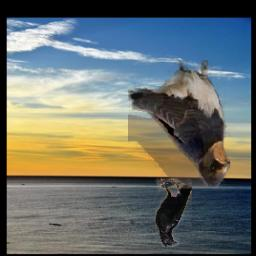Crow: (156, 178, 193, 247)
Swallow: (129, 61, 231, 189)
